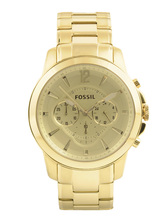watch: (24, 10, 153, 213)
